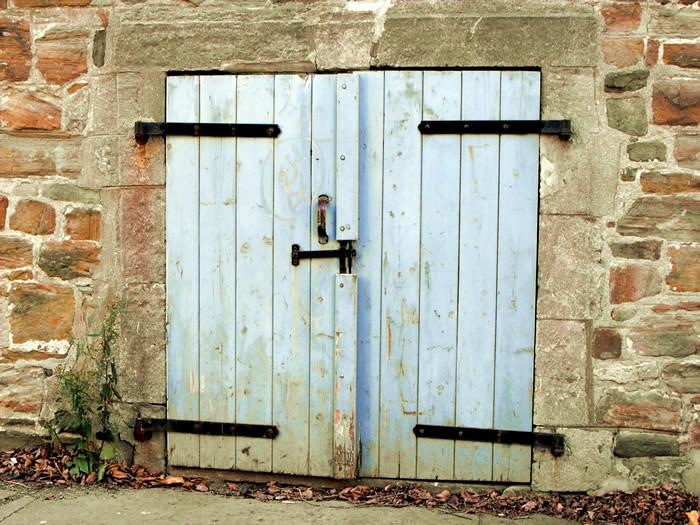door: (163, 69, 541, 486)
